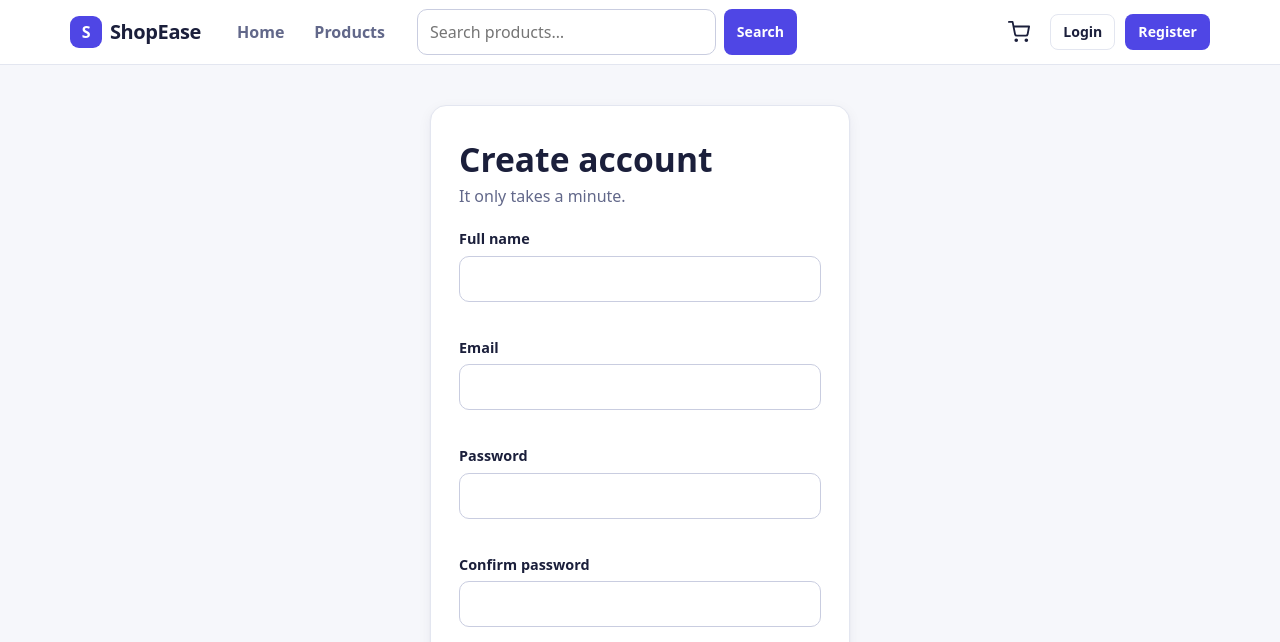
it: customer journey › shows server errors: duplicate email and stock limit
Step 1. Type "Admin Two" into the field labelled "Full name" → (640, 279), box [459,256,821,302]
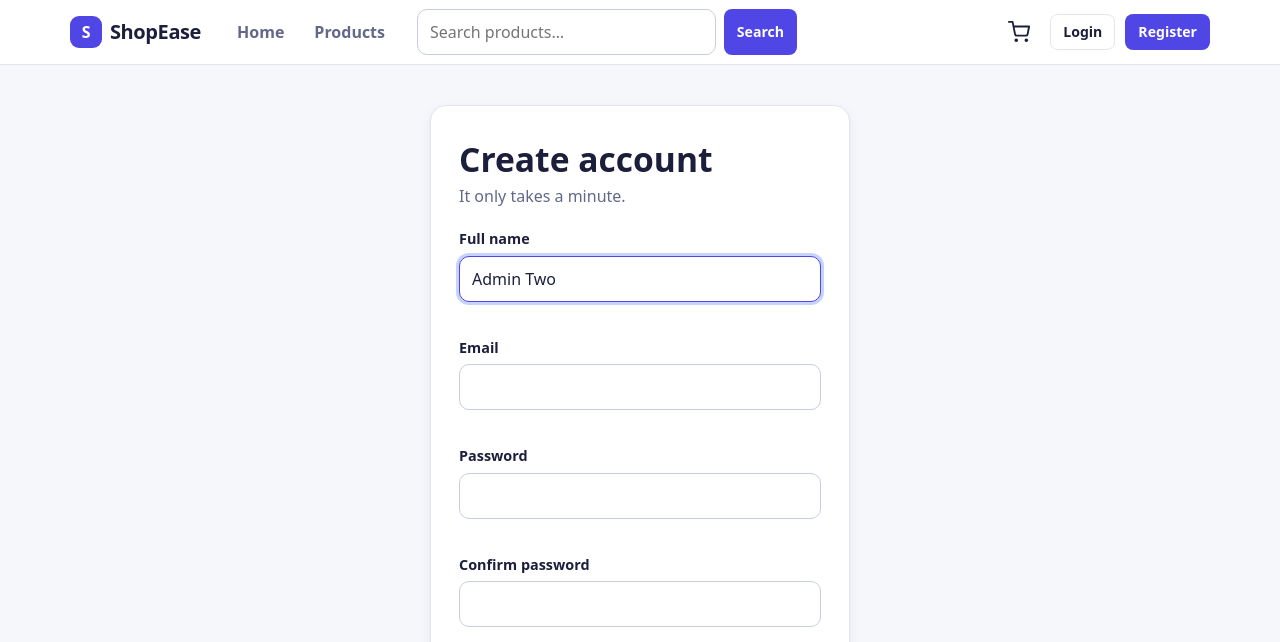
Step 2. Type "admin@x.com" into the field labelled "Email" → (640, 387), box [459,364,821,410]
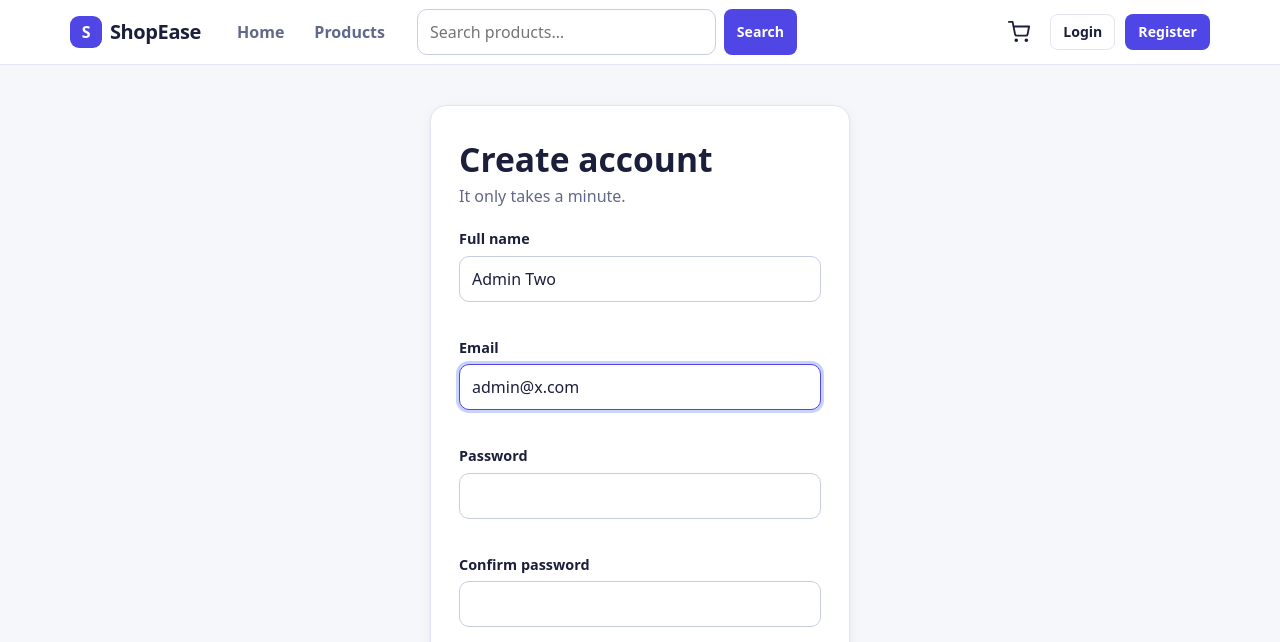
Step 3. Type "StrongPass123" into the password field labelled "Password" → (640, 496), box [459,473,821,519]
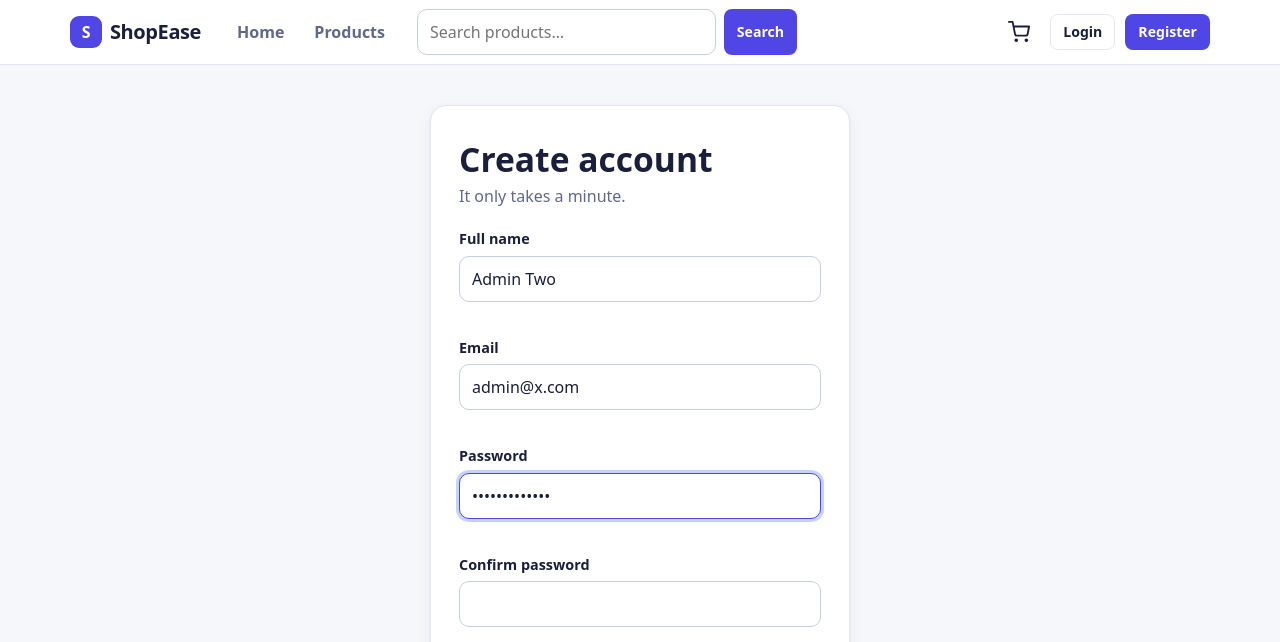
Step 4. Type "StrongPass123" into the password field labelled "Confirm password" → (640, 604), box [459,581,821,627]
(page scrolled)
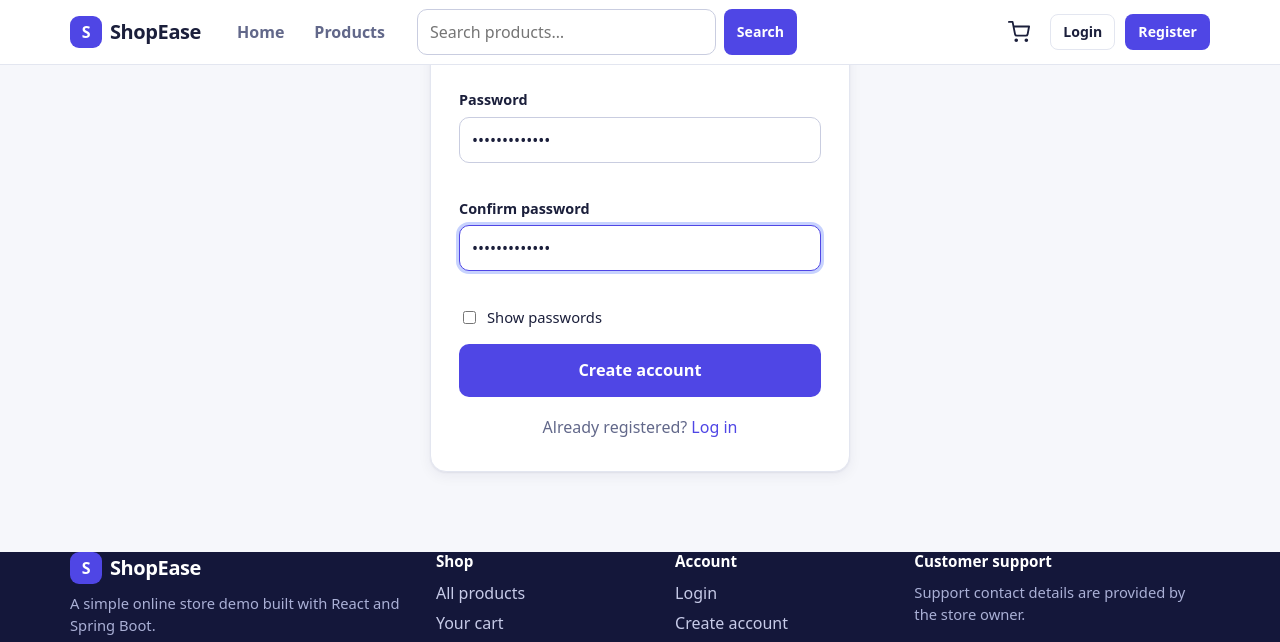
Step 5. Click the button "Create account" → (640, 371), box [459,344,821,397]
(page scrolled)
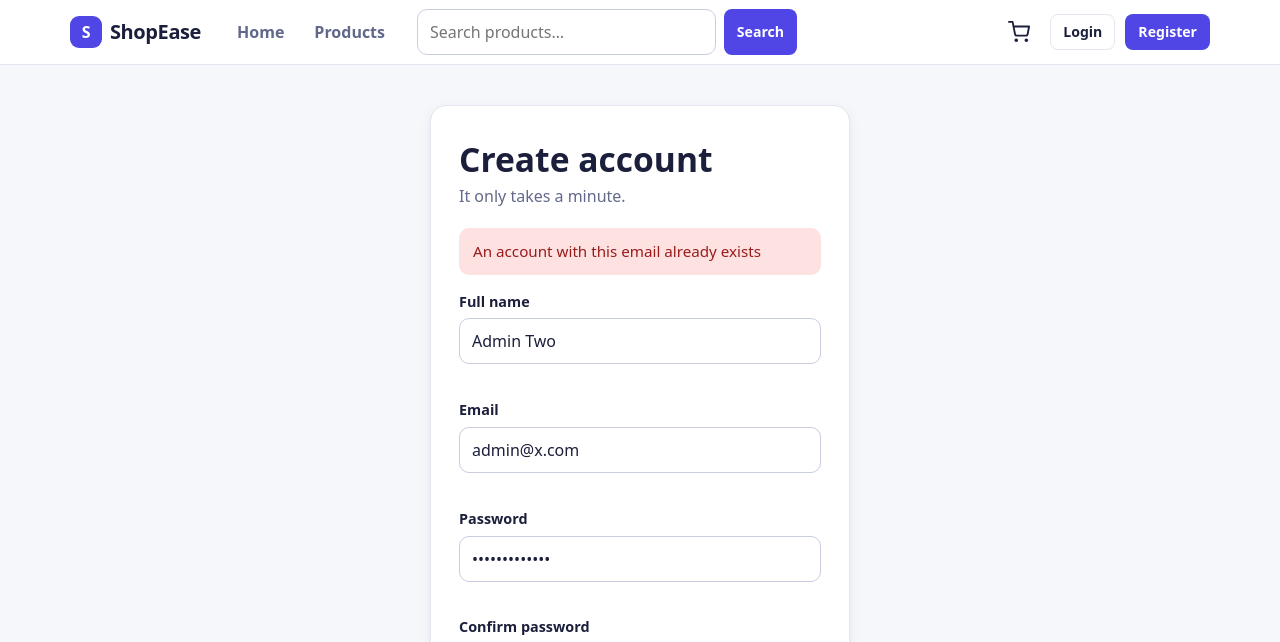
Expected: the text "An account with this email already exists" is shown, [459,228,821,275]
